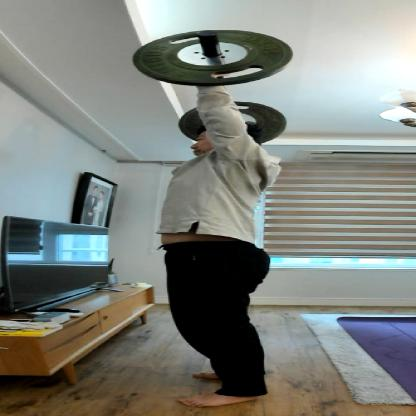Barbell: (120, 20, 305, 91)
